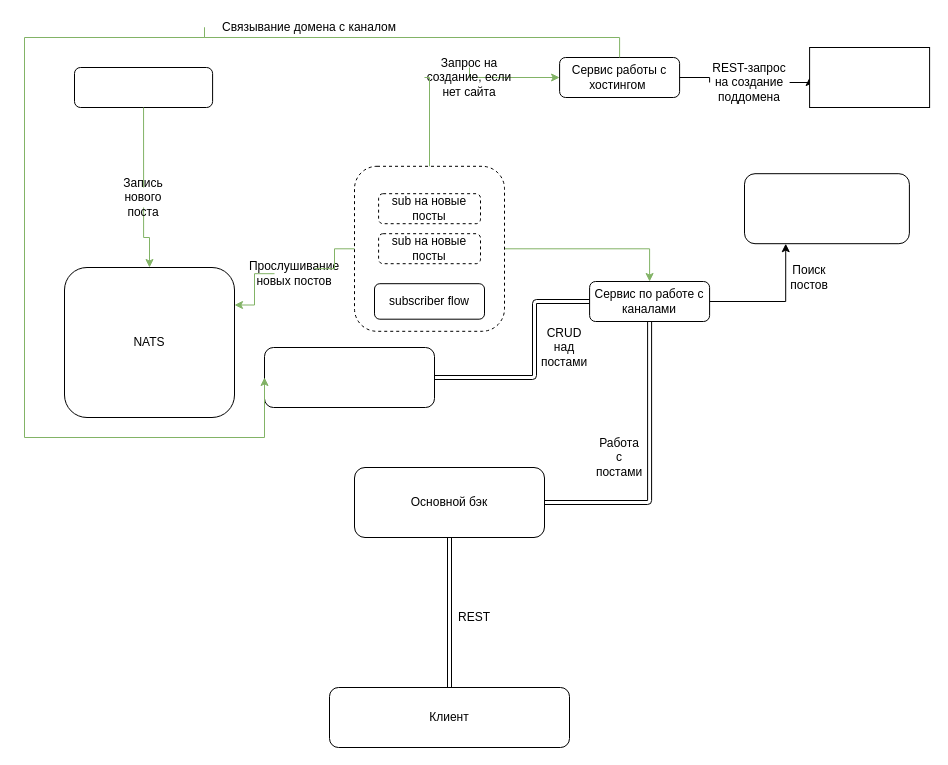
Some shapes in this 948 by 765 pixel diagram are drawn without their labels. Here are the shapes that lost their labels. From the top down, the centre of each, then its label:
At point (143, 87): "Прослушивание бота".
At point (869, 77): "Хостинг API панели".
At point (826, 208): "ElasticSearch".
At point (349, 377): "MongoDB".
